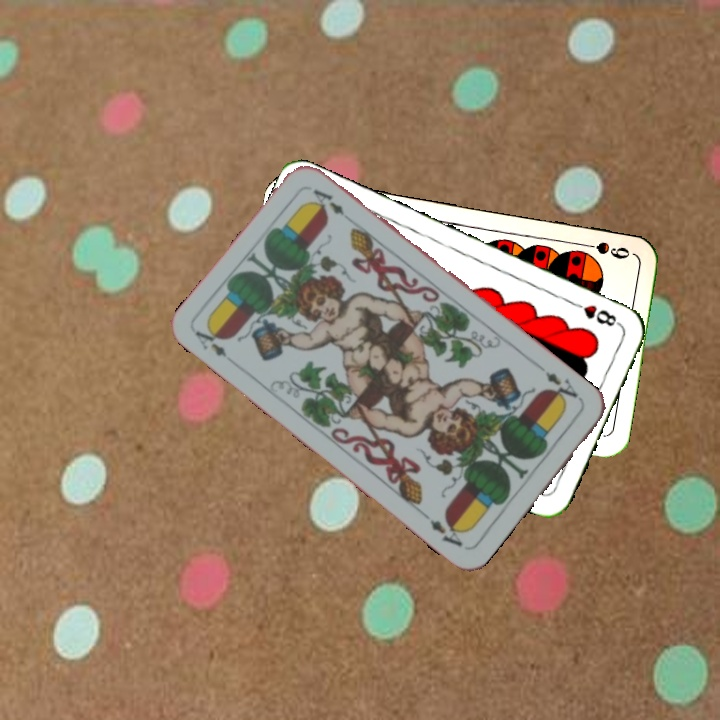EA: (541, 367, 585, 407), (191, 322, 230, 360)
H8: (567, 297, 623, 329)
S9: (574, 237, 633, 262)
